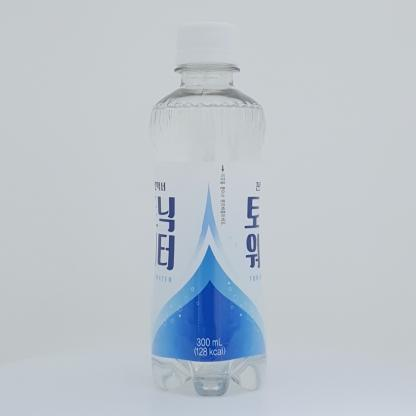----------300ML: (151, 22, 266, 396)
